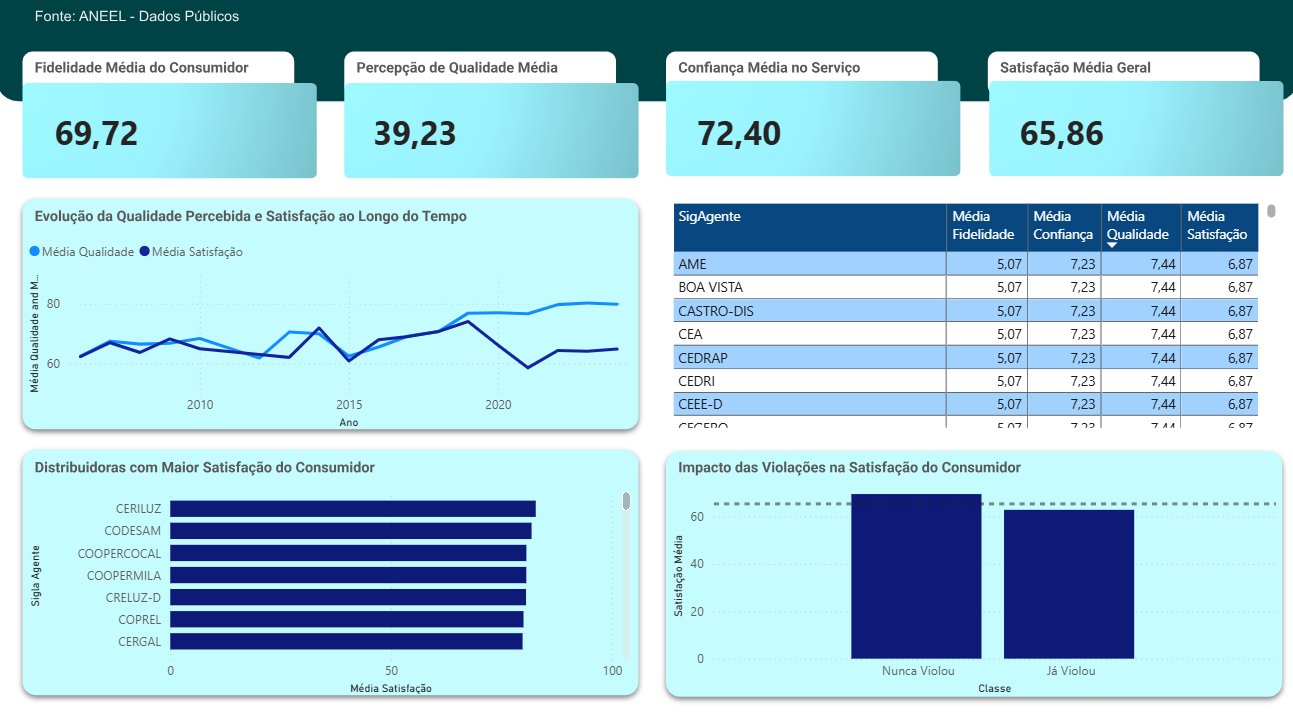

The page's visual inventory and layout, read from the dashboard file:
{"tool":"powerbi","page":{"name":"Satisfação do Consumidor","canvas":[1280,720],"ordinal":3},"visuals":[{"type":"cardVisual","fields":{"Data":["Median(indicadores_satisfacao.MdaIndicadorConfianca)"]},"box":[29.7,89,286.3,87.5],"z":0},{"type":"cardVisual","fields":{"Data":["Median(indicadores_satisfacao.MdaIndicadorFidelidade)"]},"box":[342.7,89,286.3,87.5],"z":1000},{"type":"cardVisual","fields":{"Data":["Median(indicadores_satisfacao.MdaIndicadorQualidade)"]},"box":[660.1,89.6,284.7,87.1],"z":2000},{"type":"cardVisual","fields":{"Data":["Median(indicadores_satisfacao.MdaIndicadorSatisfacao)"]},"box":[976.2,89,286.3,87.5],"z":3000},{"type":"lineChart","fields":{"Y":["Median(indicadores_satisfacao.MdaIndicadorQualidade)","Median(indicadores_satisfacao.MdaIndicadorSatisfacao)"],"Category":["indicadores_satisfacao.NumAno"]},"box":[28.2,231.4,600.8,198.8],"z":4000},{"type":"barChart","fields":{"Category":["indicadores_consolidados_aneel.SigAgente"],"Y":["_Medidas.Media_Satisfacao_Agente"]},"box":[29.7,474.7,599.4,216.6],"z":5000},{"type":"tableEx","fields":{"Values":["indicadores_consolidados_aneel.SigAgente","indicadores_satisfacao.MdaMediaFidelidade","indicadores_satisfacao.MdaMediaConfianca","indicadores_satisfacao.MdaMediaQualidade","indicadores_satisfacao.MdaMediaSatisfacao"]},"box":[660.2,200.3,602.3,229.9],"z":6000},{"type":"columnChart","fields":{"Category":["indicadores_consolidados_aneel.ClasseViolacao"],"Y":["_Medidas.SatisfacaoMediaGrupo"]},"box":[660.2,474.7,602.3,216.6],"z":7000}]}

Visuals, with their boxes in screenshot pixels (x1, y1, x2, y2), scaled from the page's 1280x720 canvas onto the 1293x724 screenshot:
cardVisual - Median(indicadores_satisfacao.MdaIndicadorConfianca): 30 89 319 177
cardVisual - Median(indicadores_satisfacao.MdaIndicadorFidelidade): 346 89 635 177
cardVisual - Median(indicadores_satisfacao.MdaIndicadorQualidade): 667 90 954 178
cardVisual - Median(indicadores_satisfacao.MdaIndicadorSatisfacao): 986 89 1275 177
lineChart - Median(indicadores_satisfacao.MdaIndicadorQualidade) x Median(indicadores_satisfacao.MdaIndicadorSatisfacao): 28 233 635 433
barChart - indicadores_consolidados_aneel.SigAgente x _Medidas.Media_Satisfacao_Agente: 30 477 635 695
tableEx - indicadores_consolidados_aneel.SigAgente x indicadores_satisfacao.MdaMediaFidelidade: 667 201 1275 433
columnChart - indicadores_consolidados_aneel.ClasseViolacao x _Medidas.SatisfacaoMediaGrupo: 667 477 1275 695
